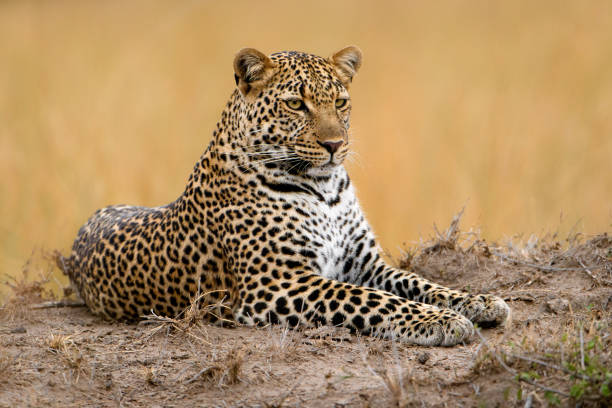cheetah: (224, 39, 370, 184)
